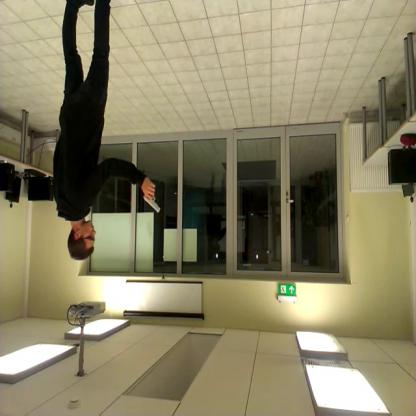Pistol: (136, 177, 164, 221)
